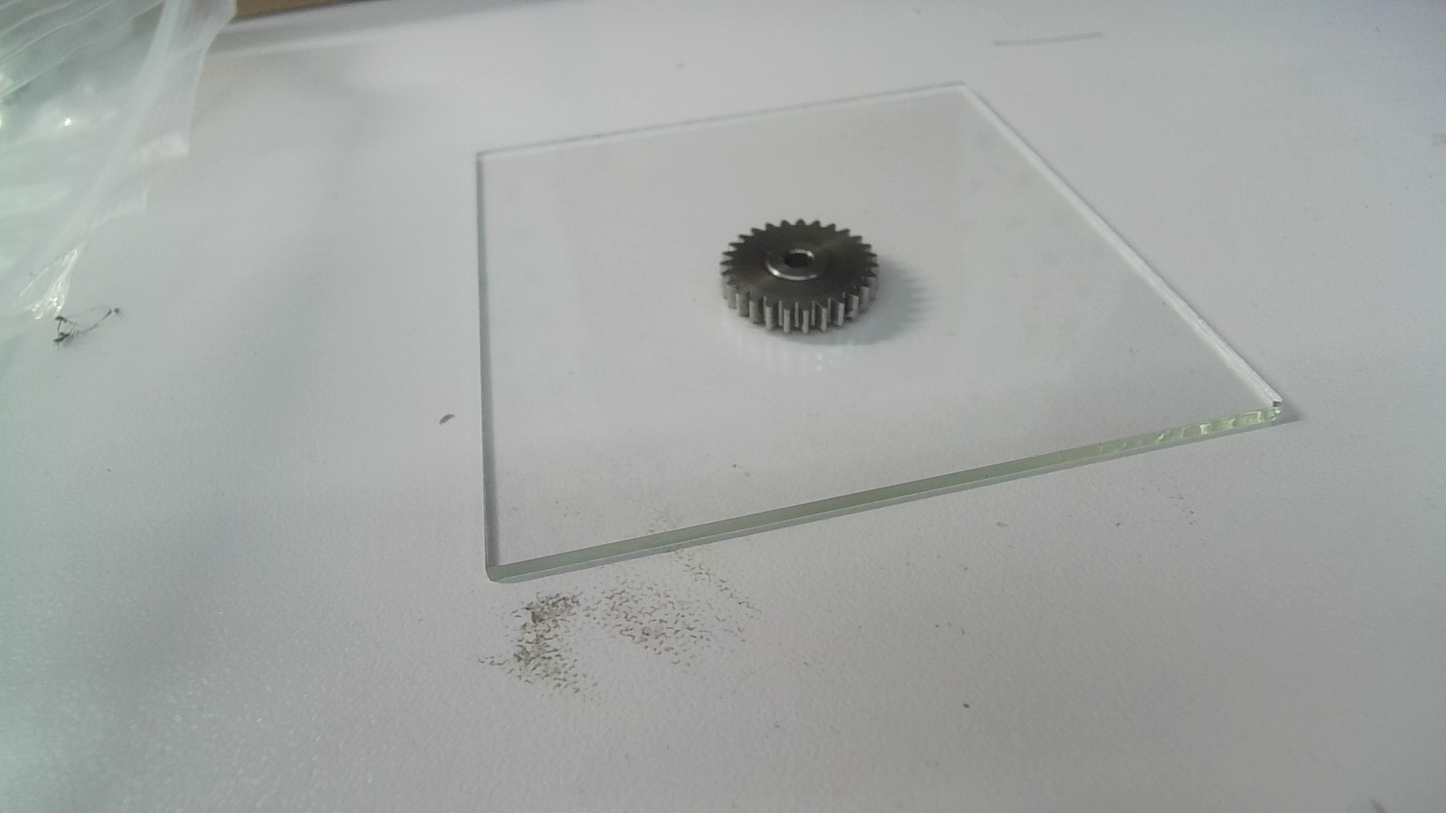gear: (717, 217, 882, 338)
